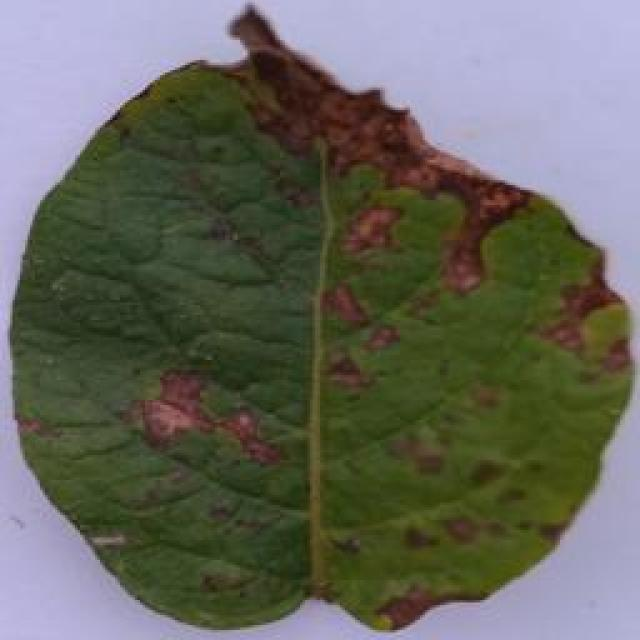Potato_Late_Blight: (13, 6, 624, 630)
